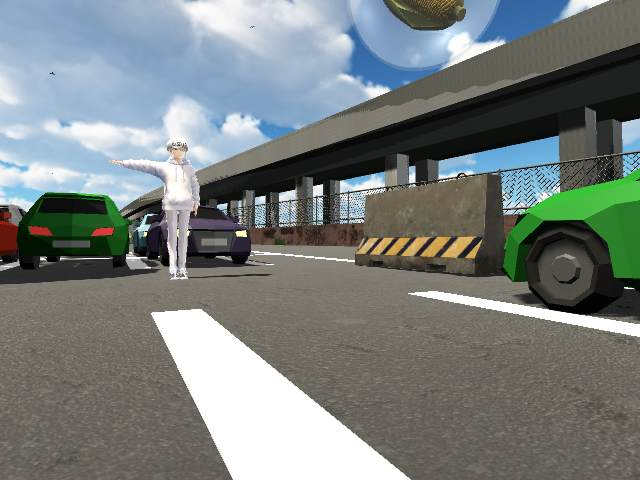singleP_left: (108, 136, 202, 283)
